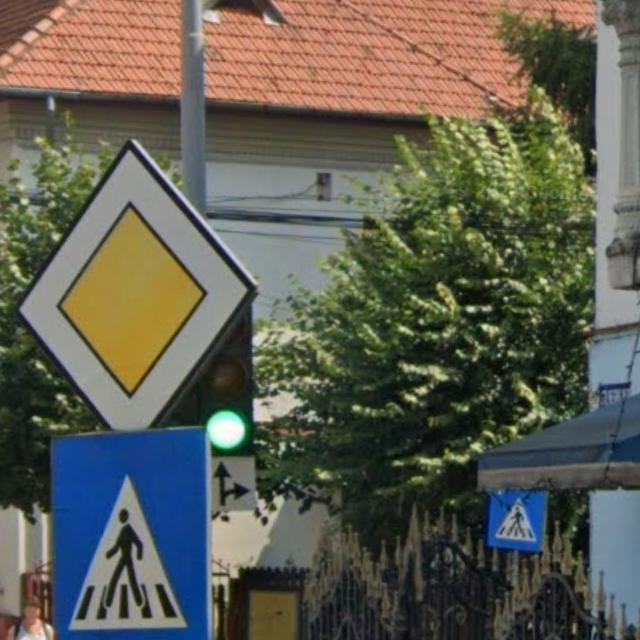info_crosswalk: (44, 432, 211, 640), (489, 487, 547, 552)
